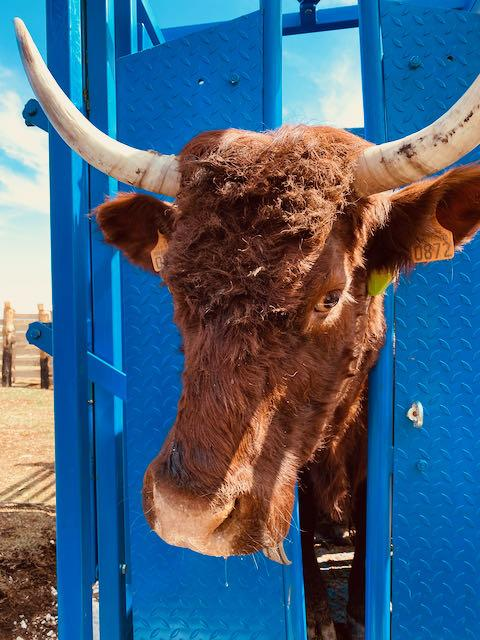muzzles: (135, 476, 272, 564)
